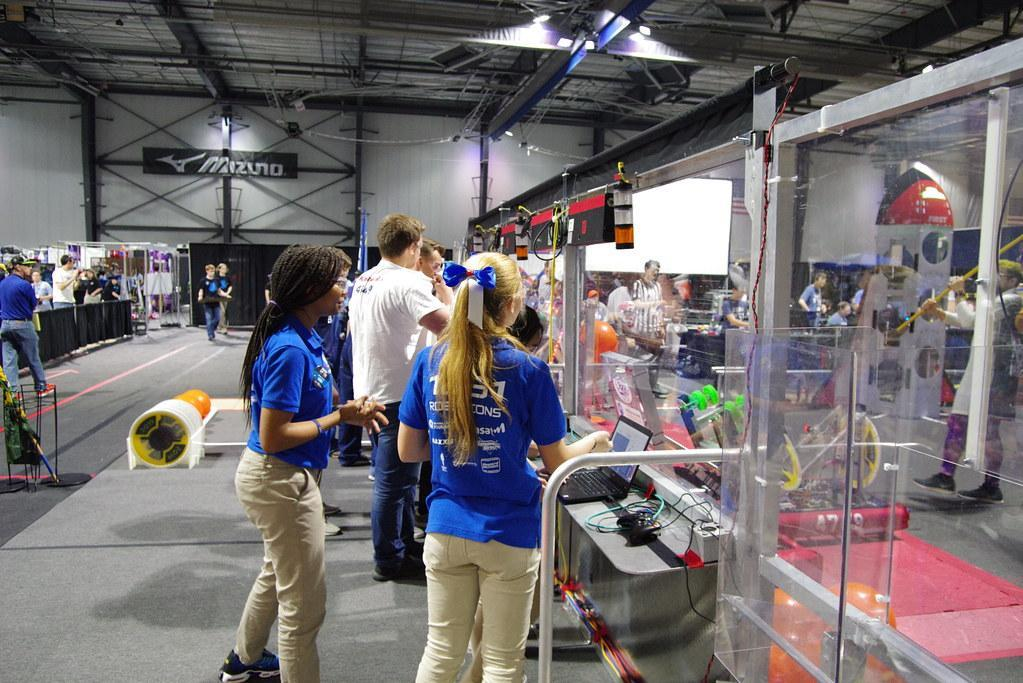robot: (707, 328, 914, 543)
